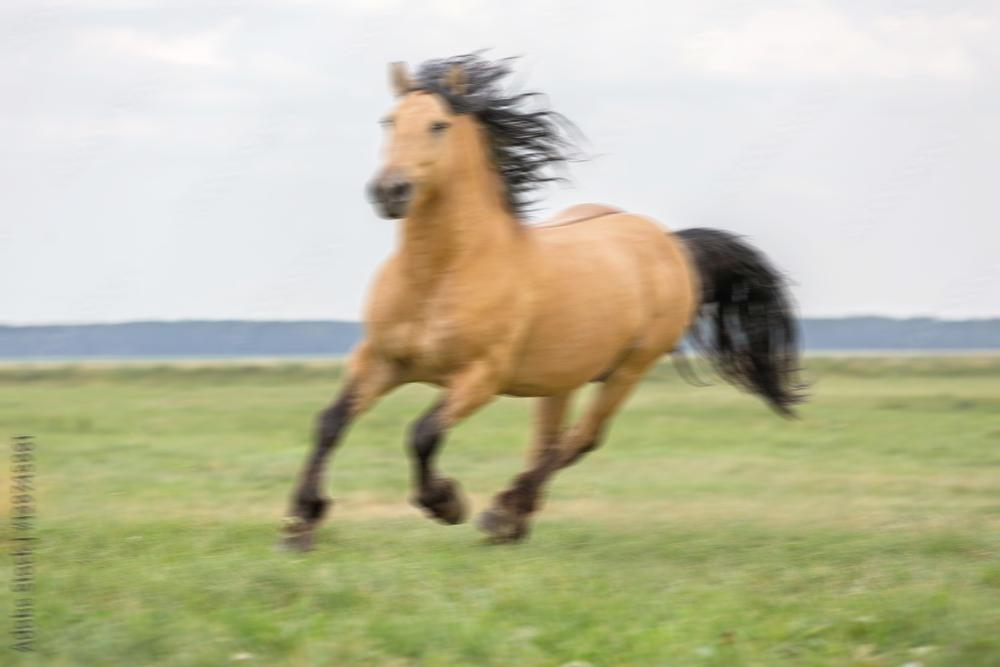horse: (273, 36, 822, 560)
